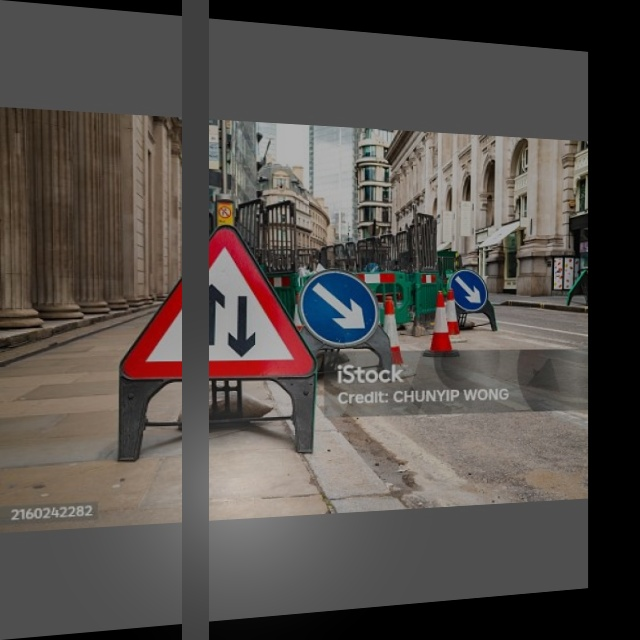Mandatory_Two_Way_Traffic: (132, 220, 311, 386)
